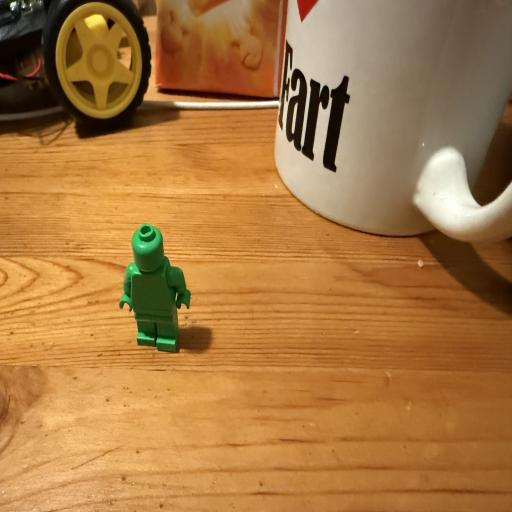Minifig: (119, 224, 190, 352)
